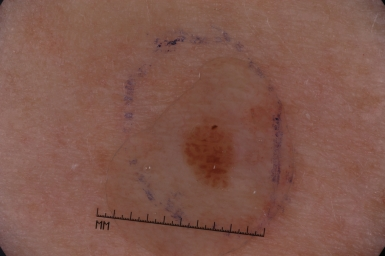seborrheic keratosis: (171, 111, 248, 196)
